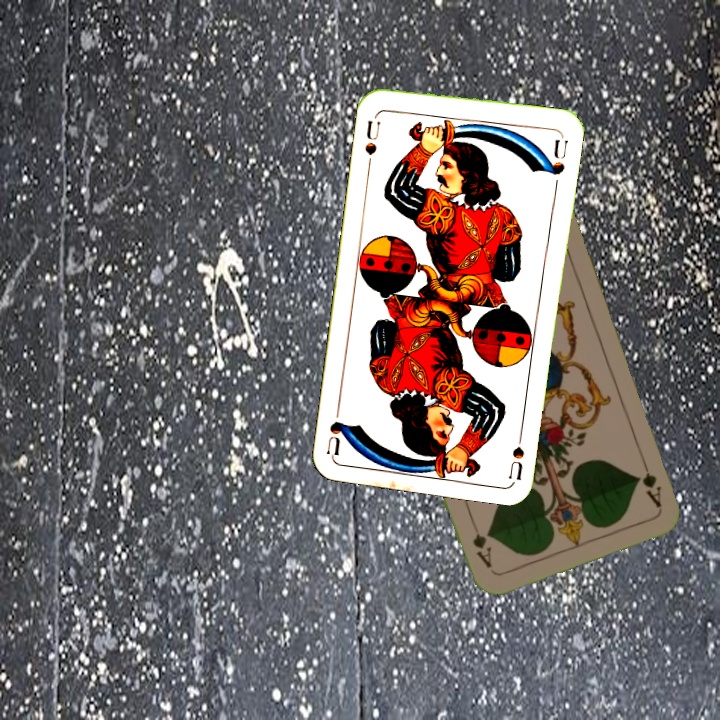GA: (636, 452, 664, 510)
SU: (360, 110, 383, 169), (505, 421, 527, 480)
